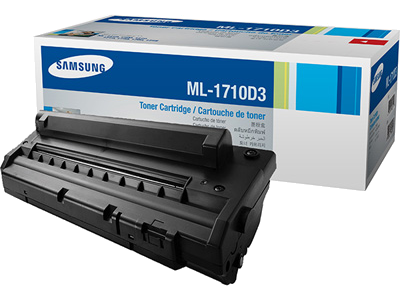Nonrec_Other: (1, 104, 285, 282)
Rec_Paper: (23, 16, 399, 163)
